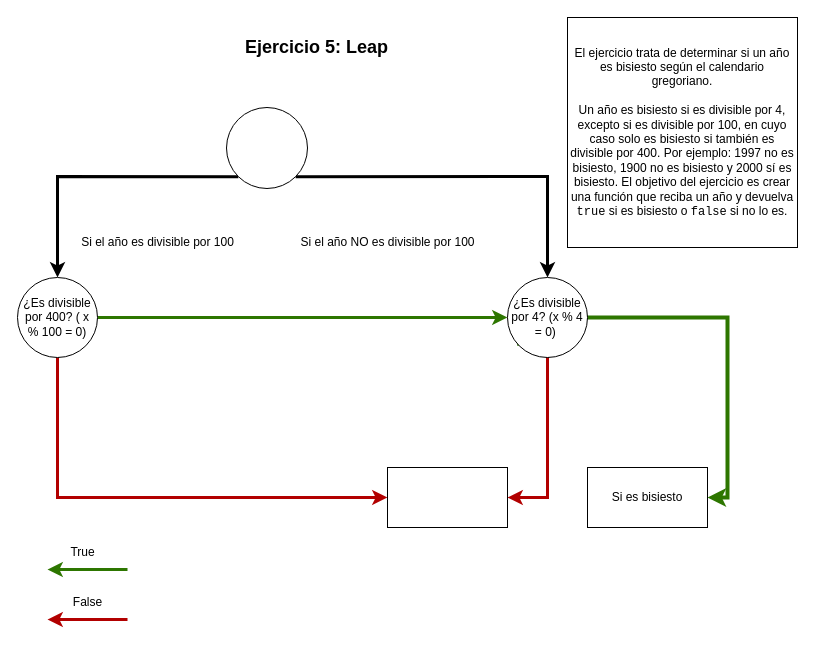
Some shapes in this 815 by 646 pixel diagram are drawn without their labels. Here are the shapes that lost their labels. From the top down, the centre of each, then its label:
At point 267,147: "Input = Año".
At point 447,497: "No es bisiesto".
